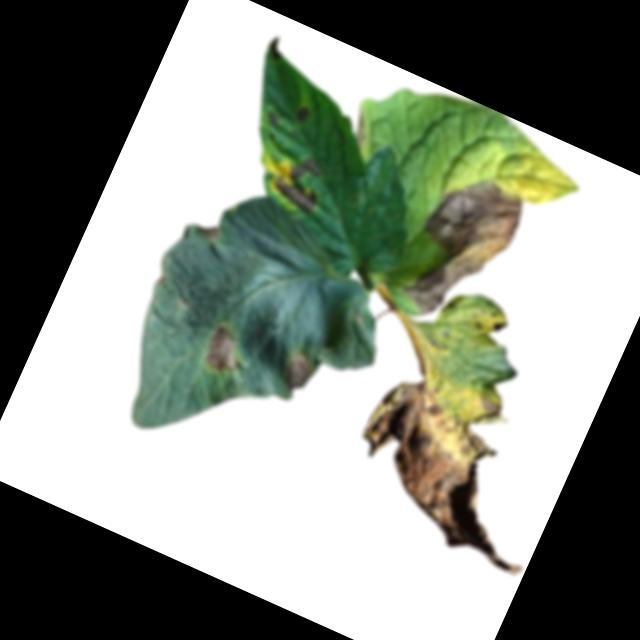Early_blight: (332, 360, 580, 582), (388, 162, 532, 338), (266, 147, 334, 219), (197, 322, 250, 379), (275, 348, 319, 395), (345, 112, 373, 150), (193, 217, 226, 247), (265, 34, 287, 62), (290, 103, 314, 127), (487, 318, 509, 341), (261, 110, 282, 130)
